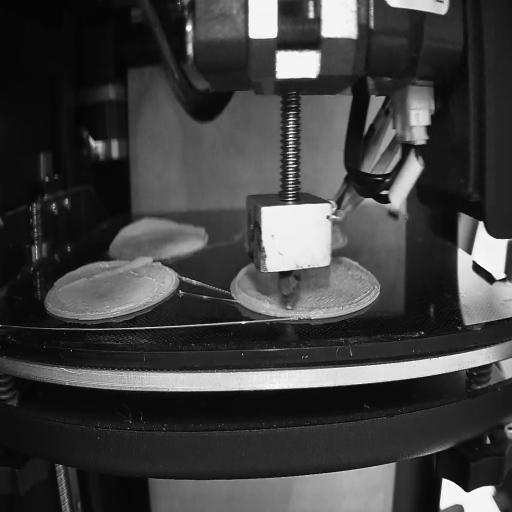over_extrusion: (60, 252, 154, 290), (106, 212, 210, 246), (234, 265, 285, 306)
